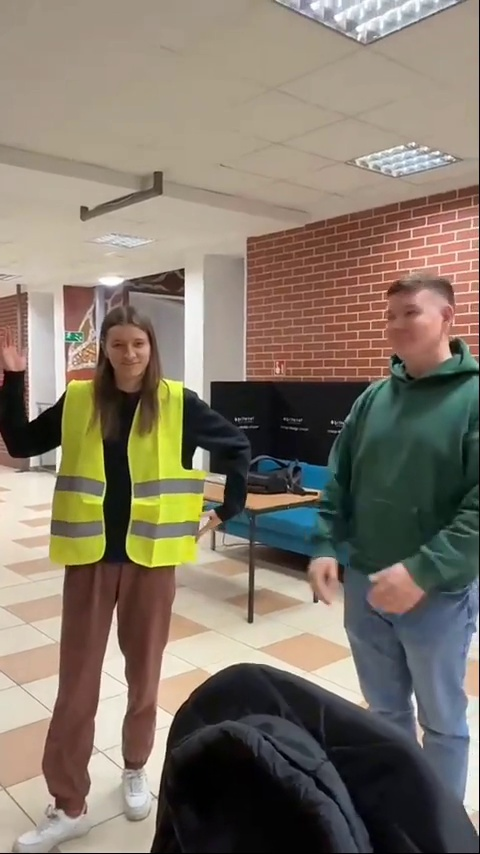no vest: (326, 276, 480, 721)
vest: (2, 316, 250, 846)
